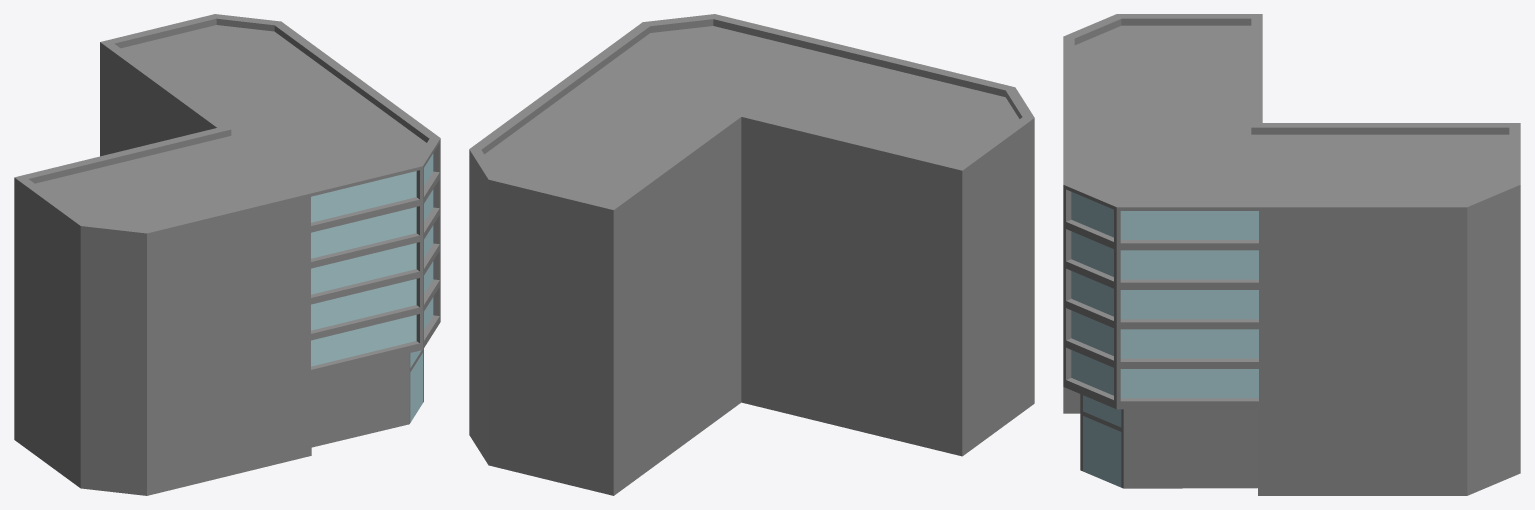
3 views of the same model, side by side, from view 1: azimuth 30°, elevation 25°; view 2: azimuth 150°, elevation 25°; view 3: azimuth 270°, elevation 25° (orthographic). The views are drawn at different scales.
Visible parts, largest first — view 1: Cube.014; view 2: Cube.014; view 3: Cube.014.
Part boxes in pixels (bbox=[...]): Cube.014: bbox=[14, 14, 440, 495]; Cube.014: bbox=[469, 14, 1034, 495]; Cube.014: bbox=[1063, 14, 1520, 495].
Size of the model in its own units: 1388 by 967 by 1388.
